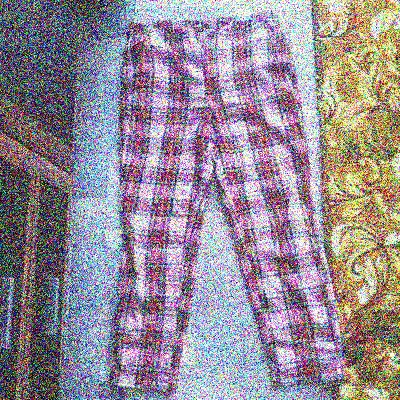Pants: (97, 9, 350, 395)
